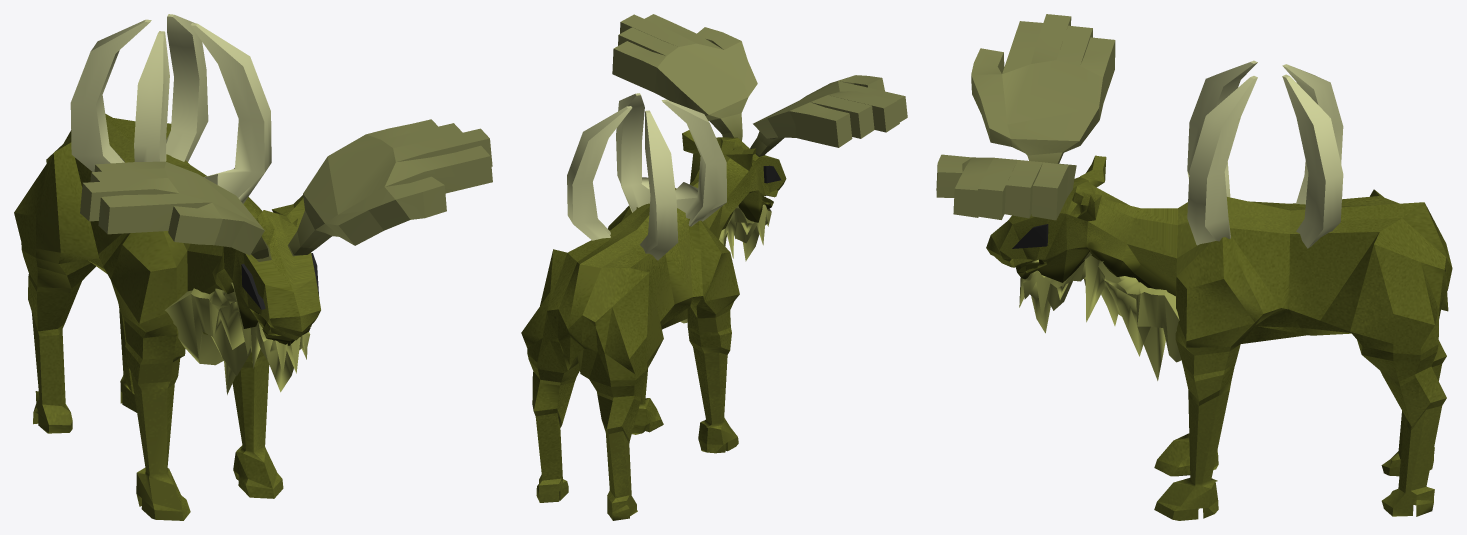
Rendered from Boss_Ice_Idle_10f.fbx.
The picture shows the model from 3 angles, left to right: view 1: azimuth 30°, elevation 25°; view 2: azimuth 150°, elevation 25°; view 3: azimuth 270°, elevation 25°; orthographic projection. The views are drawn at different scales.
Visible parts, largest first — view 1: Ice_Boss_Model; view 2: Ice_Boss_Model; view 3: Ice_Boss_Model.
Part boxes in pixels (box(x1,y1,x2,y2)): Ice_Boss_Model: box(14, 14, 492, 520); Ice_Boss_Model: box(521, 14, 907, 520); Ice_Boss_Model: box(936, 14, 1452, 520).
Bounding box in the file's own units: 0.7465 × 0.857 × 0.949.
1 material, 1 textured.
